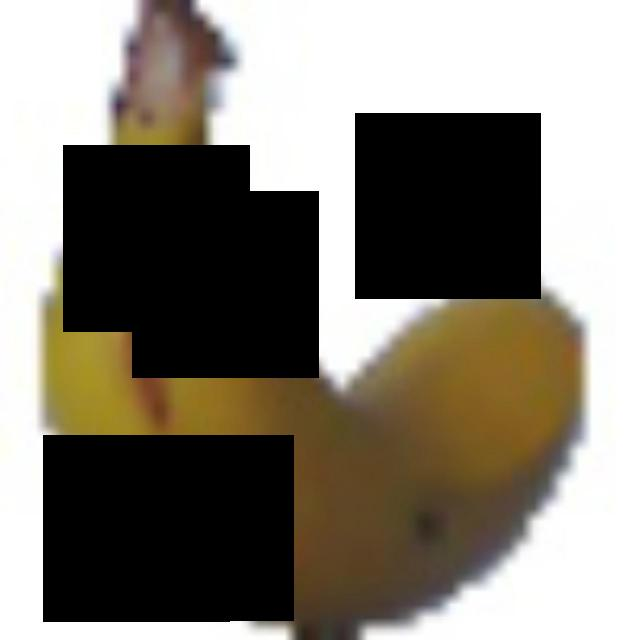banana: (32, 0, 596, 634)
